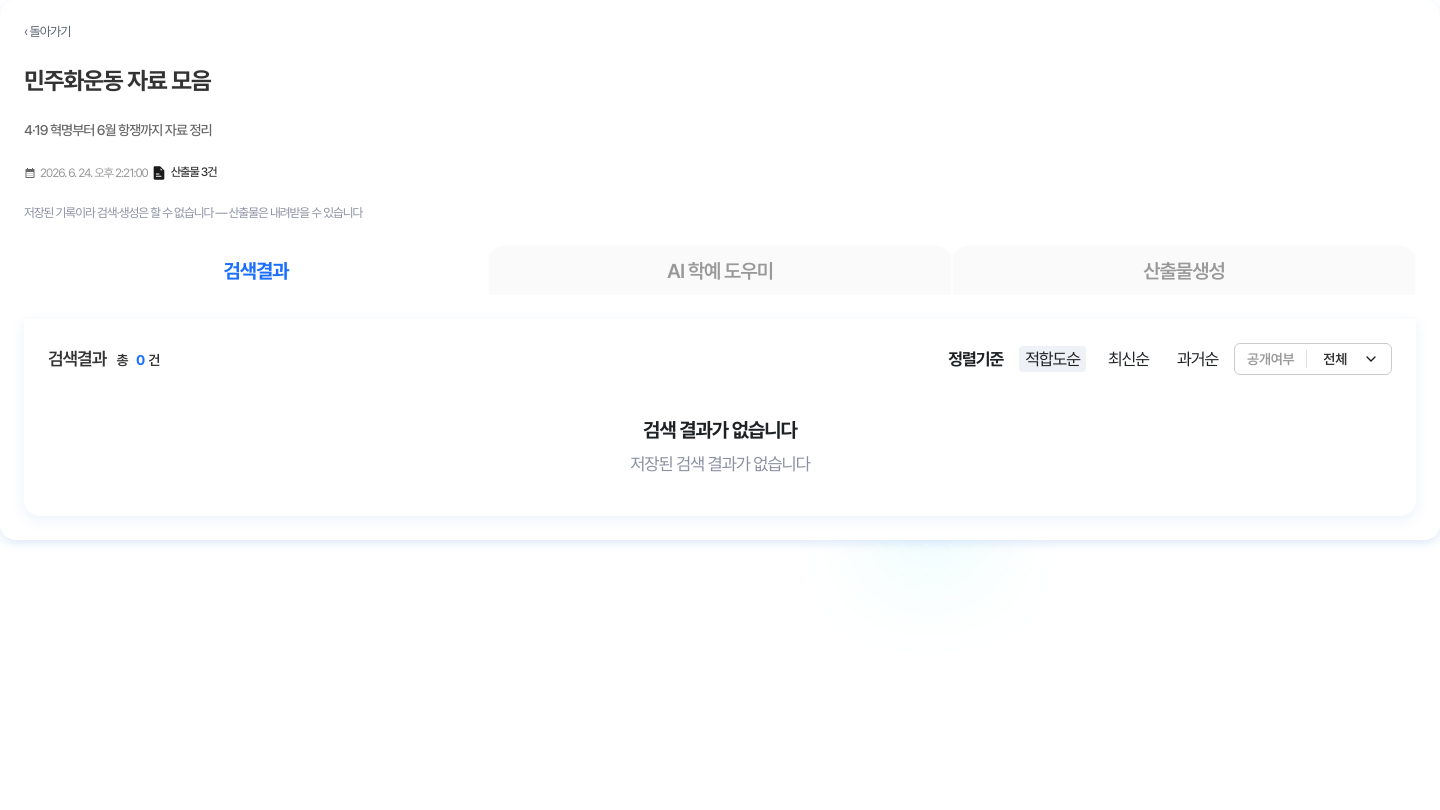
it: 산출물생성 탭에는 산출물 목록이 정확히 하나만 뜬다(OutputTab 자기 목록과 ProjectOutputList 중복 방지)
expect the text "민주화운동 자료 모음" is shown: met, box [24, 65, 211, 96]
Click the button "산출물생성" at (1184, 270), box [952, 245, 1416, 295]
(page scrolled)
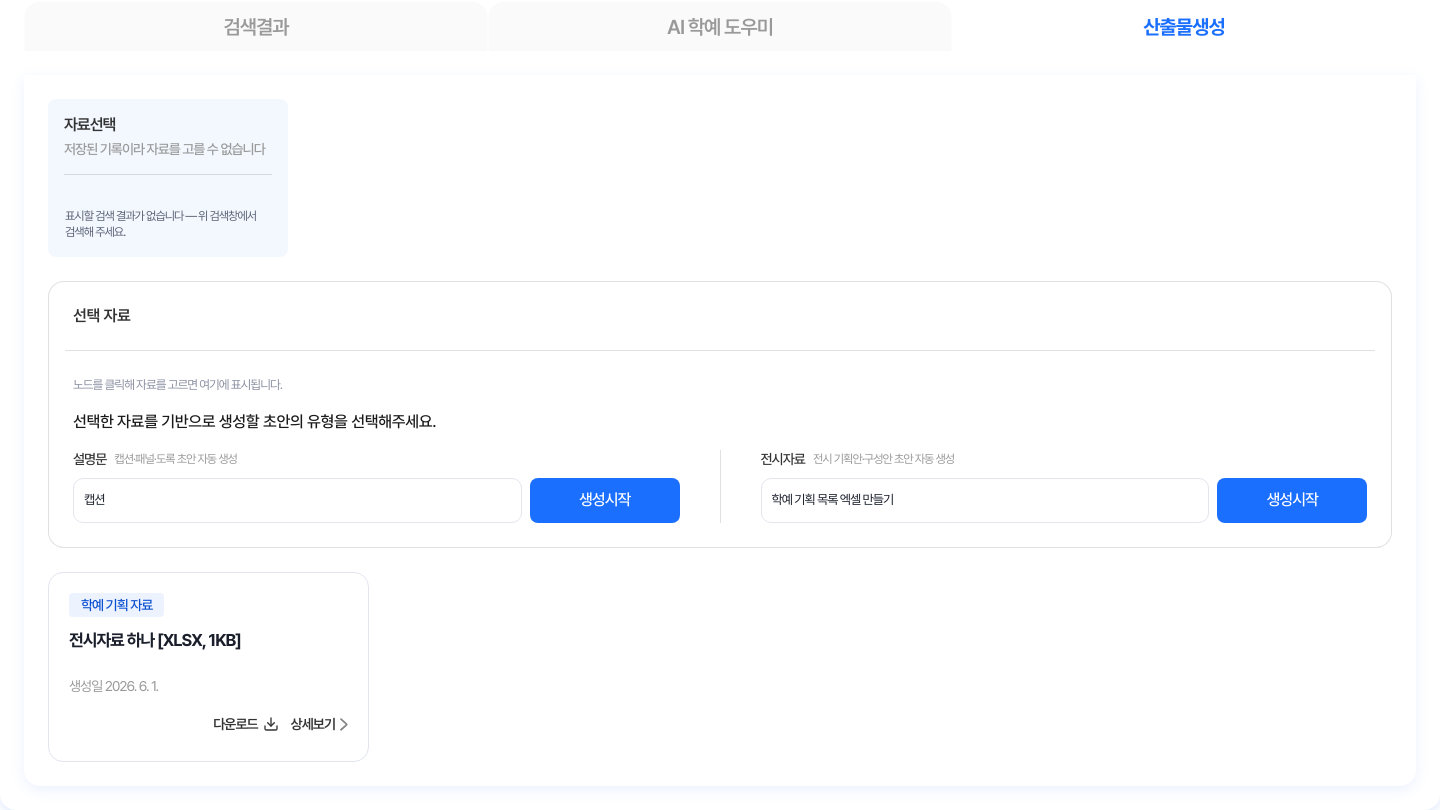
expect the text "전시자료 하나 [XLSX, 1KB]" is shown: met, box [69, 630, 241, 650]
expect the number of elements with class "output_list" is 1: met, box [48, 572, 369, 762]
expect the number of elements with test id "output-card-o1" is 1: met, box [48, 572, 369, 762]
